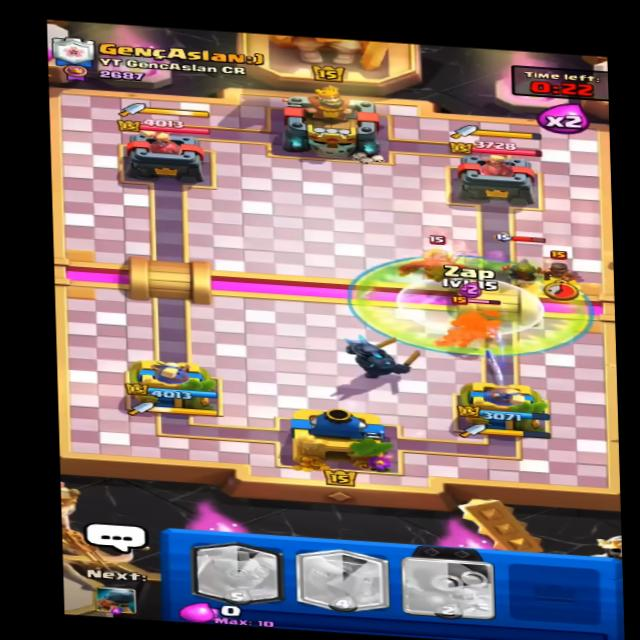evo-wizard: (496, 238, 557, 286)
phoenix: (397, 231, 480, 284)
prince: (435, 290, 504, 353)
ram-rider: (538, 247, 590, 299)
